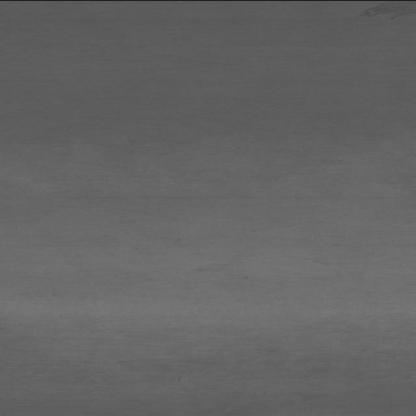water_spot: (354, 0, 416, 21)
